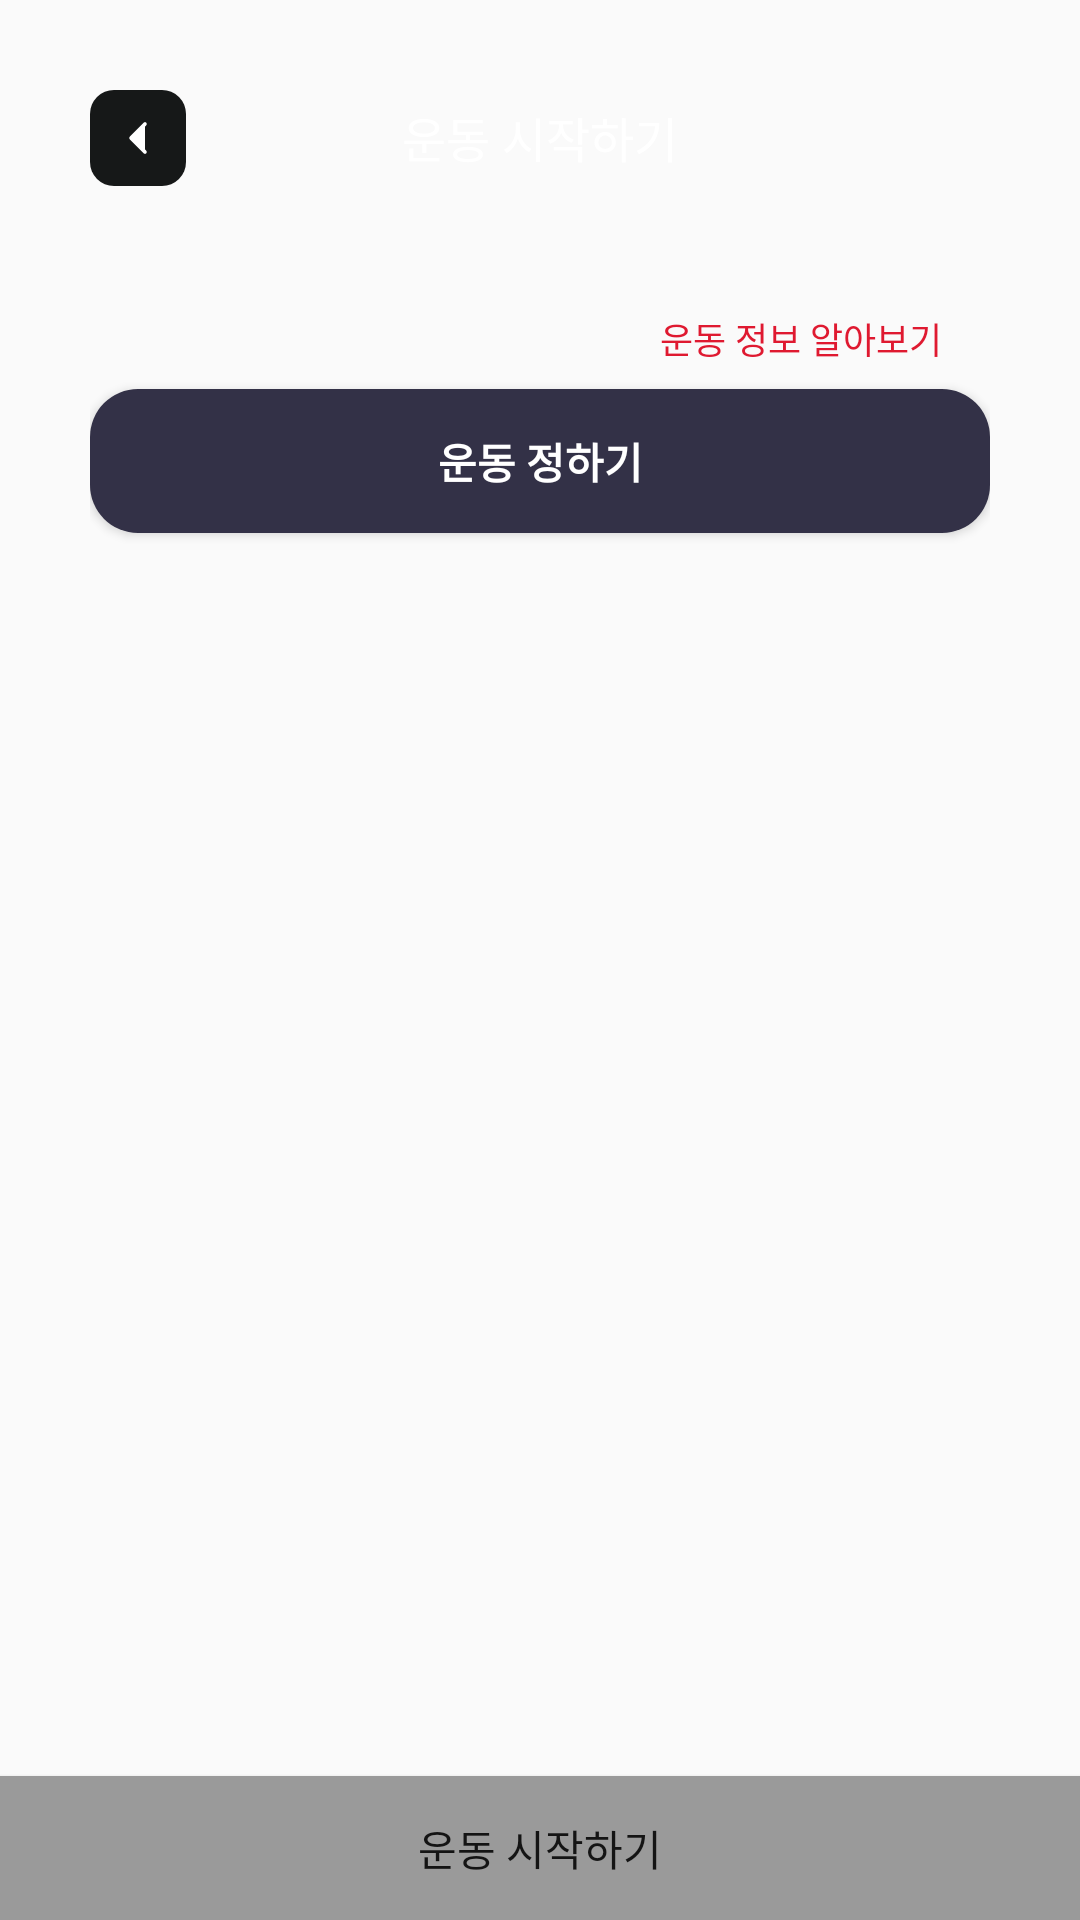

Icon click points for this 1080 × 1920 phone screenshot, format (x=x, y=y):
뒤로가기: (x=138, y=138)
